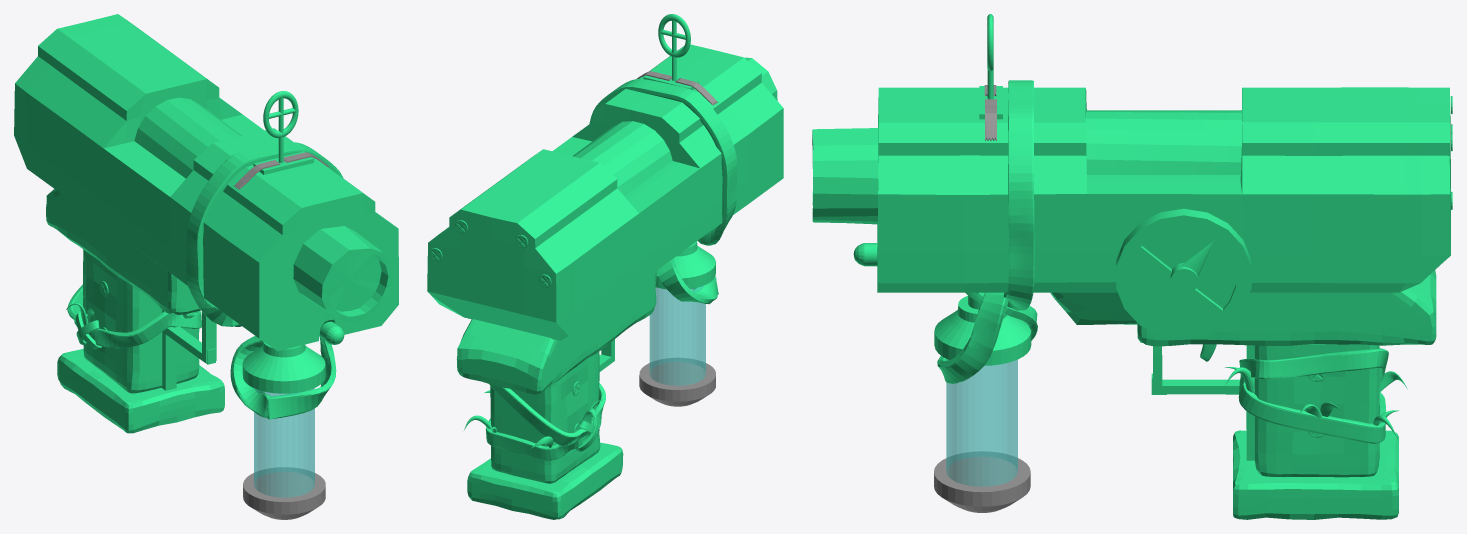
Rendered from gun para texturizar.FBX.
The picture shows the model from 3 angles, left to right: view 1: azimuth 30°, elevation 25°; view 2: azimuth 150°, elevation 25°; view 3: azimuth 270°, elevation 25°; orthographic projection. The views are drawn at different scales.
Visible parts, largest first — view 1: Object, Object002, Object008, Object006; view 2: Object, Object002, Object008, Object006; view 3: Object, Object002, Object008.
Part boxes in pixels (x1,y1,x2,y2): Object: [14, 14, 398, 433]; Object002: [254, 388, 314, 497]; Object008: [243, 467, 325, 519]; Object006: [233, 152, 328, 190]; Object: [427, 14, 783, 519]; Object002: [649, 286, 705, 385]; Object008: [639, 358, 715, 406]; Object006: [637, 71, 718, 105]; Object: [812, 14, 1452, 519]; Object002: [946, 359, 1017, 486]; Object008: [934, 451, 1030, 512].
Size of the model in its own units: 4.57 by 11.08 by 13.22.
